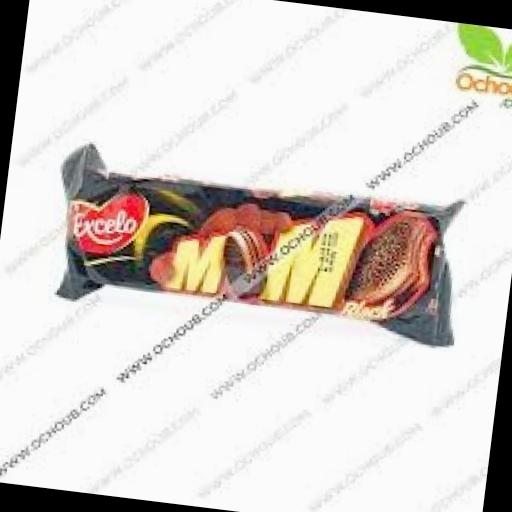MOMO: (8, 100, 505, 378)
